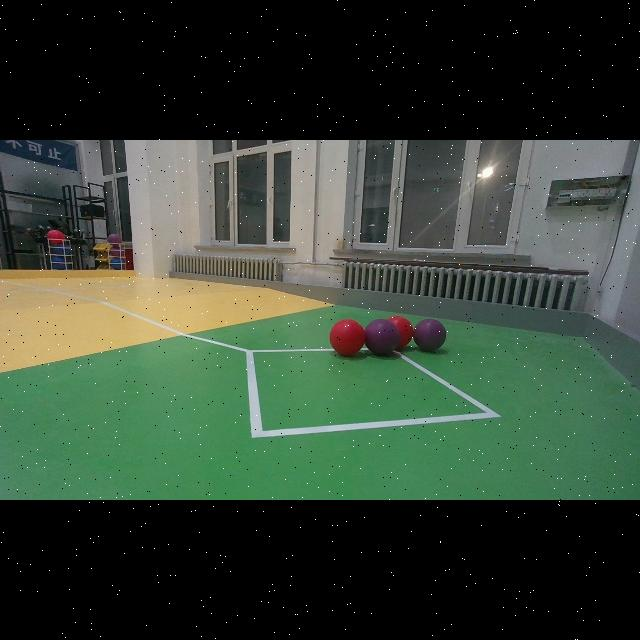P: (364, 318, 400, 356), (414, 318, 446, 352)
R: (330, 320, 366, 356), (387, 316, 413, 348)
